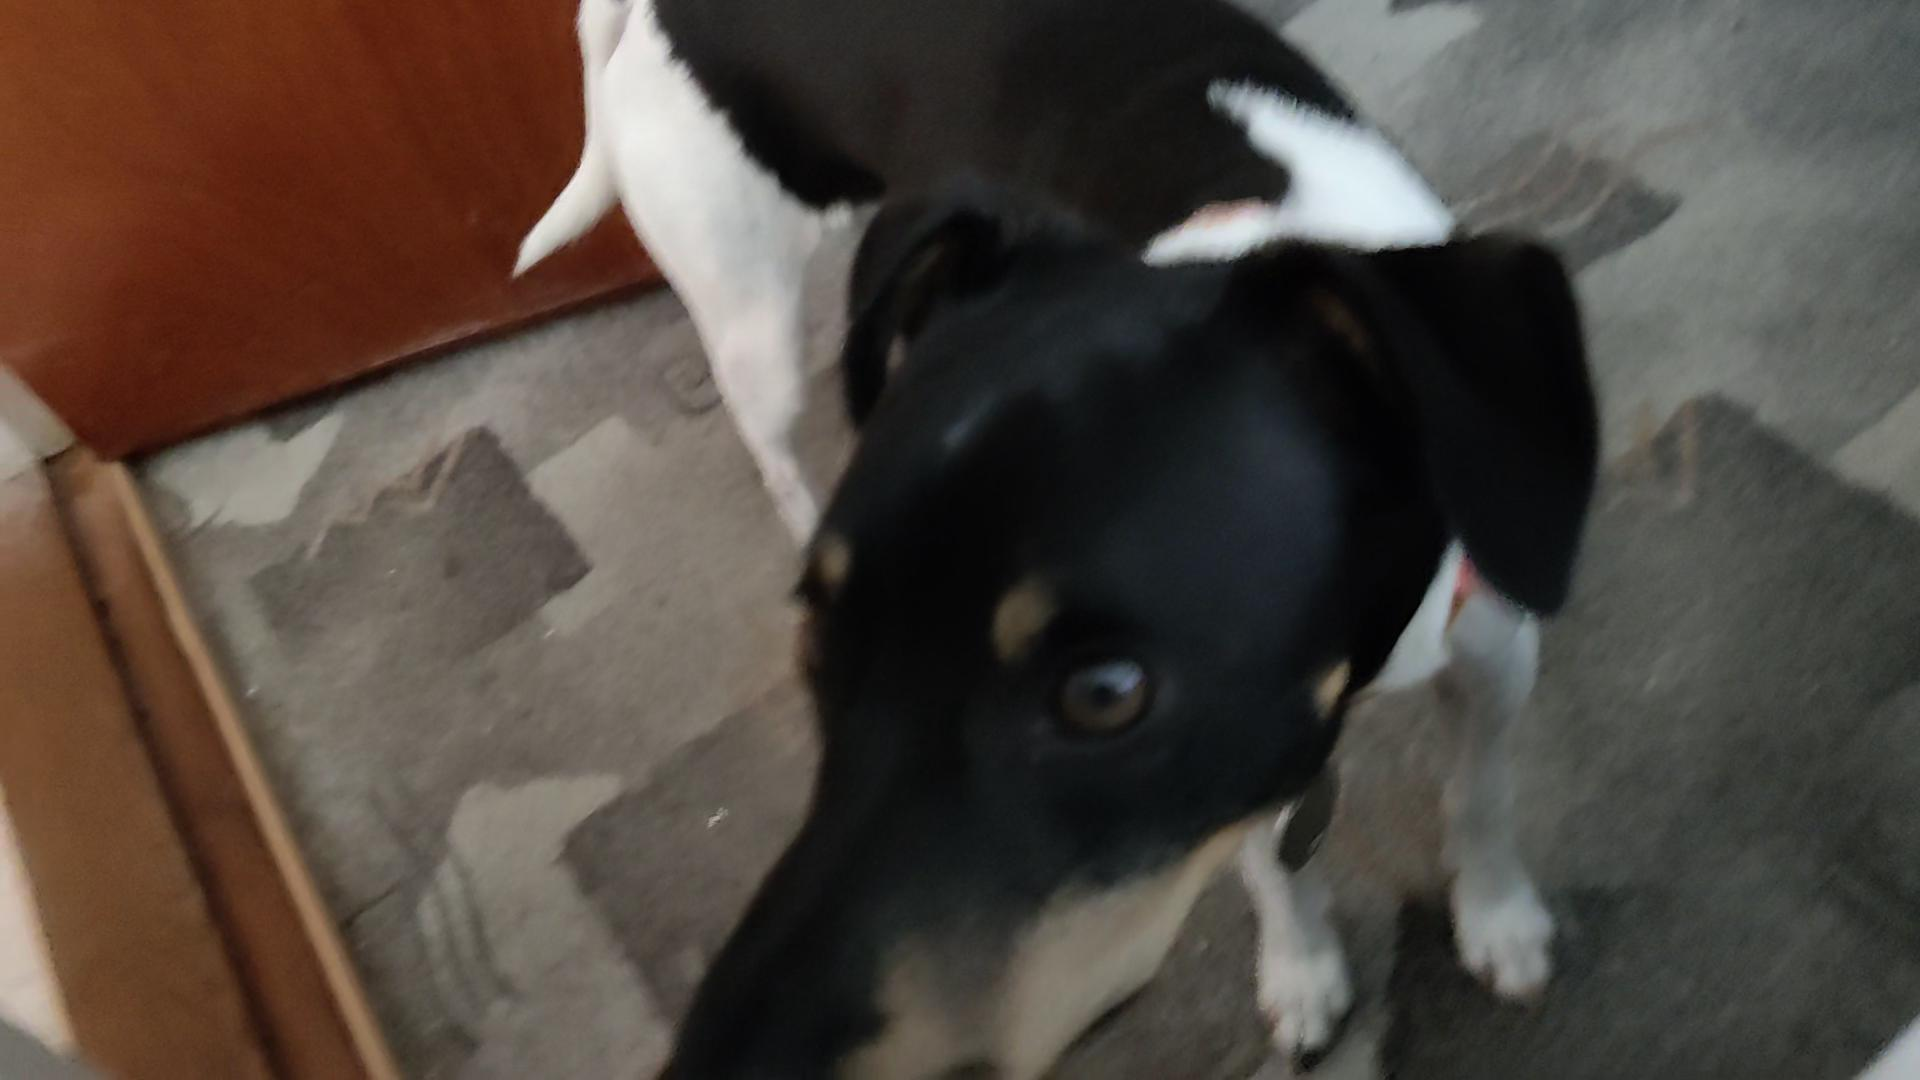Dog: (464, 0, 1658, 1079)
